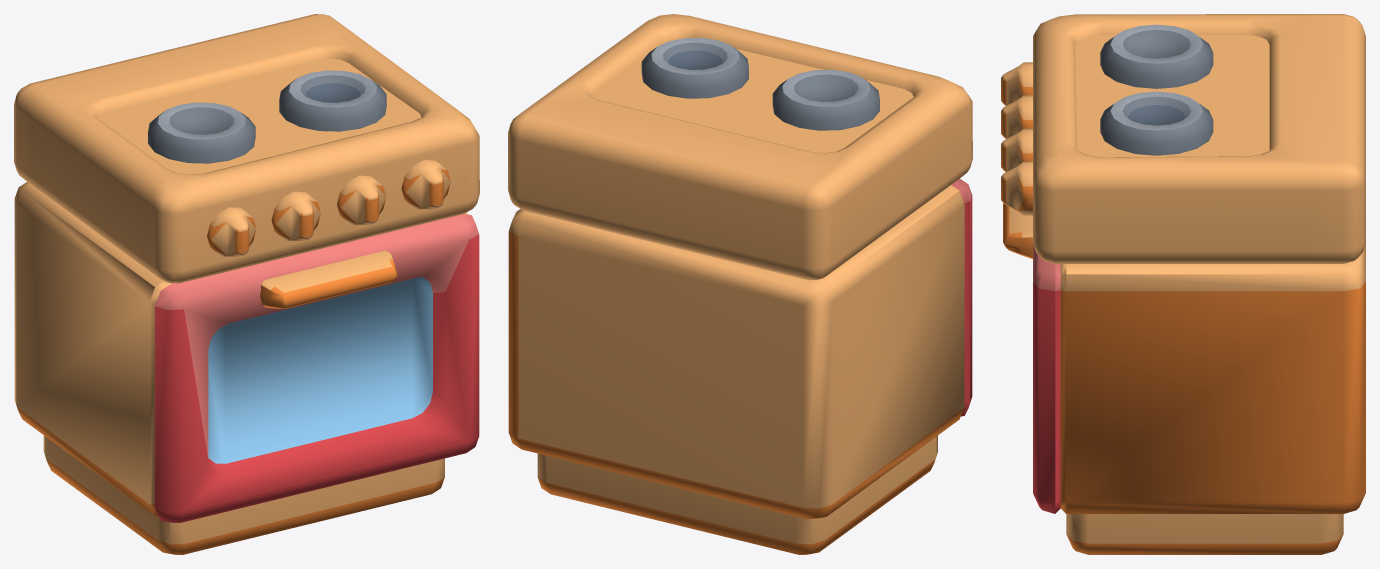
The model's file is fogao_natal_forno_pacote.glb.
3 views of the same model, side by side, from view 1: azimuth 30°, elevation 25°; view 2: azimuth 150°, elevation 25°; view 3: azimuth 270°, elevation 25° (orthographic). The views are drawn at different scales.
Parts seen in each view (by area): view 1: fogao_natal_forno_pacote, porta_forno; view 2: fogao_natal_forno_pacote, porta_forno; view 3: fogao_natal_forno_pacote, porta_forno.
Part boxes in pixels (x1,y1,x2,y2): fogao_natal_forno_pacote: [14, 14, 479, 554]; porta_forno: [155, 214, 479, 522]; fogao_natal_forno_pacote: [508, 14, 972, 554]; porta_forno: [951, 178, 972, 416]; fogao_natal_forno_pacote: [1001, 14, 1365, 554]; porta_forno: [1003, 203, 1060, 513].
Bounding box in the file's own units: 0.744 × 0.8736 × 0.6987.
1 material, 1 textured.
